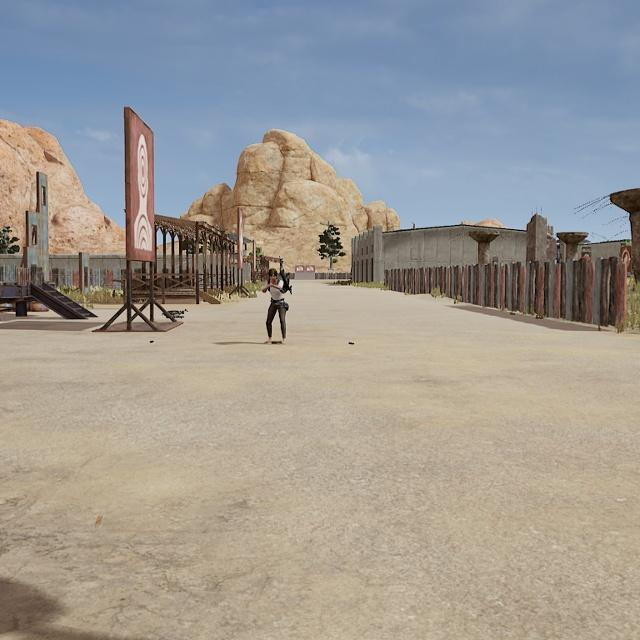head: (266, 267, 279, 283)
people: (261, 268, 289, 345)
